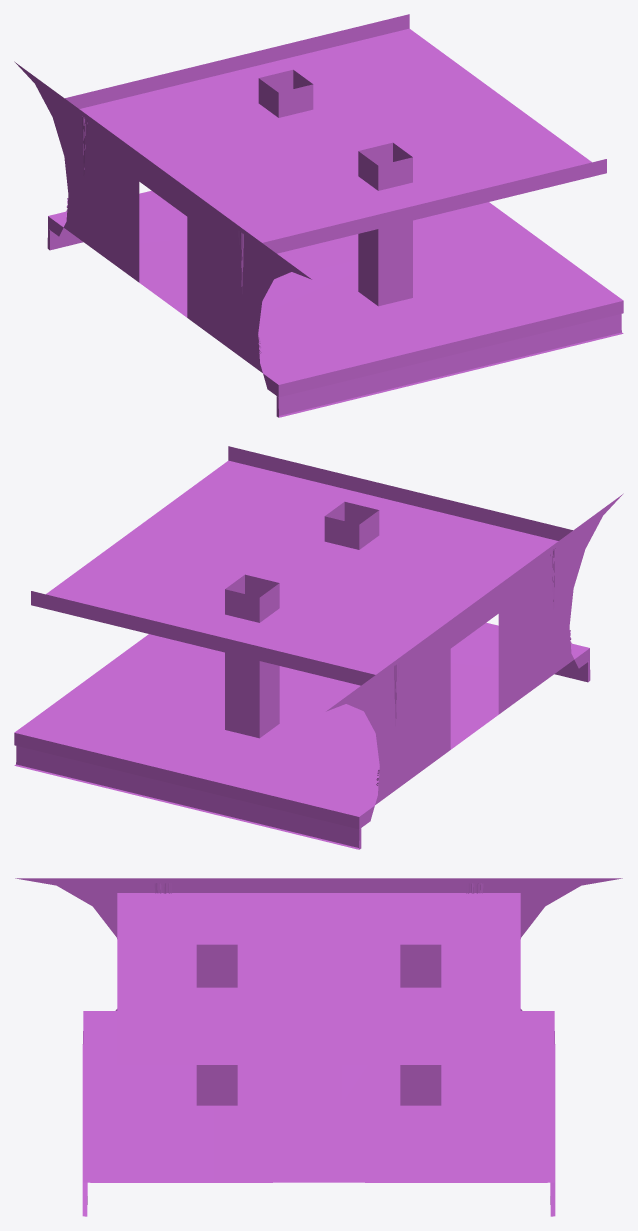
The model's file is PlatformDoor.fbx.
3 views of the same model, one above another, from view 1: azimuth 30°, elevation 25°; view 2: azimuth 150°, elevation 25°; view 3: azimuth 270°, elevation 25° (orthographic). The views are drawn at different scales.
Visible parts, largest first — view 1: PLatformDoor; view 2: PLatformDoor; view 3: PLatformDoor.
Boxes of the visible parts, left/top/right/bottom form: PLatformDoor: left=14, top=14, right=623, bottom=417; PLatformDoor: left=14, top=446, right=623, bottom=849; PLatformDoor: left=15, top=878, right=622, bottom=1216.
Bounding box in the file's own units: 10.02 × 4.81 × 14.99.
